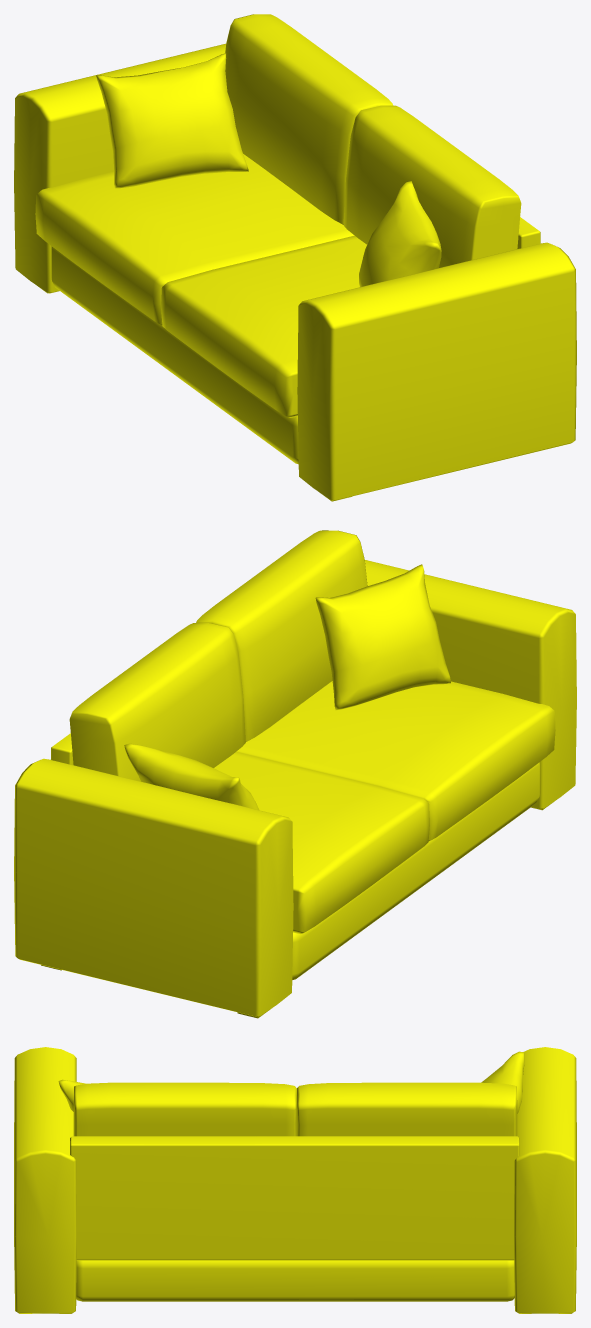
The picture shows the model from 3 angles, top to bottom: view 1: azimuth 30°, elevation 25°; view 2: azimuth 150°, elevation 25°; view 3: azimuth 270°, elevation 25°; orthographic projection. The views are drawn at different scales.
Visible parts, largest first — view 1: Sofa_clear; view 2: Sofa_clear; view 3: Sofa_clear.
Part boxes in pixels (x1,y1,x2,y2): Sofa_clear: (14, 14, 576, 501); Sofa_clear: (14, 530, 576, 1018); Sofa_clear: (14, 1047, 576, 1313).
Bounding box in the file's own units: 0.0132 × 0.0117 × 0.0277.
Materials: 1 (1 with a texture image).
